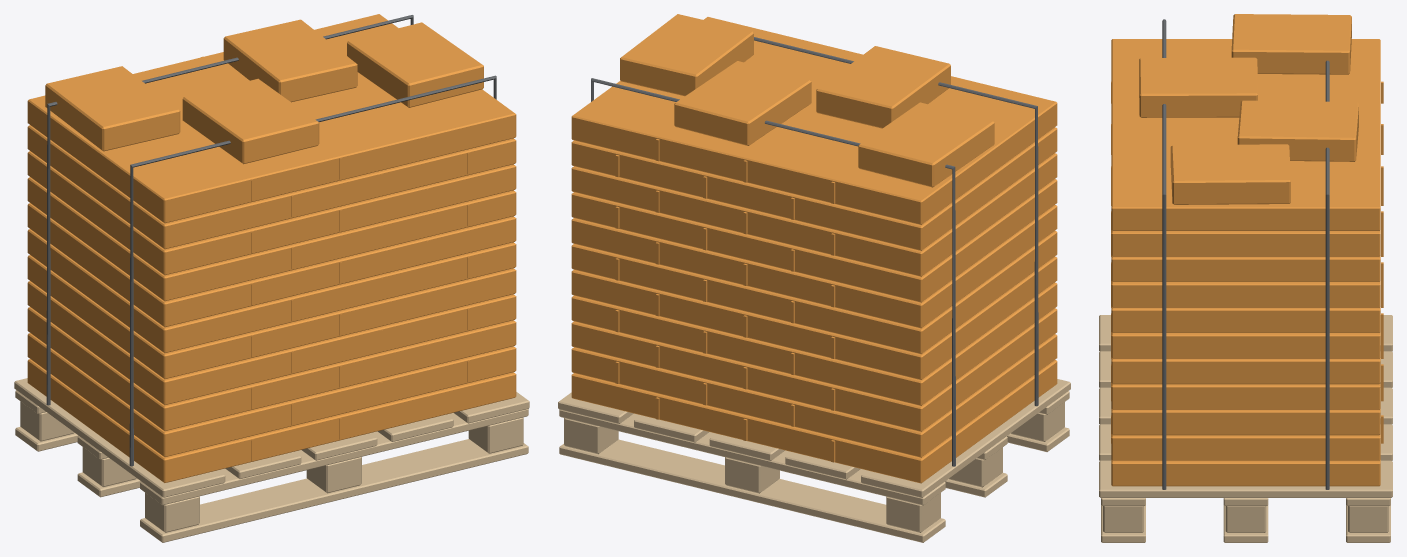
Rendered from facing-brick-pack.glb.
3 views of the same model, side by side, from view 1: azimuth 30°, elevation 25°; view 2: azimuth 150°, elevation 25°; view 3: azimuth 270°, elevation 25° (orthographic).
Parts seen in each view (by area): view 1: brick-pack; view 2: brick-pack; view 3: brick-pack.
Part boxes in pixels (box(x1,y1,x2,y2)): brick-pack: box(14, 14, 529, 542); brick-pack: box(558, 14, 1070, 542); brick-pack: box(1099, 14, 1392, 542).
Bounding box in the file's own units: 1.02 × 0.968 × 0.72.
